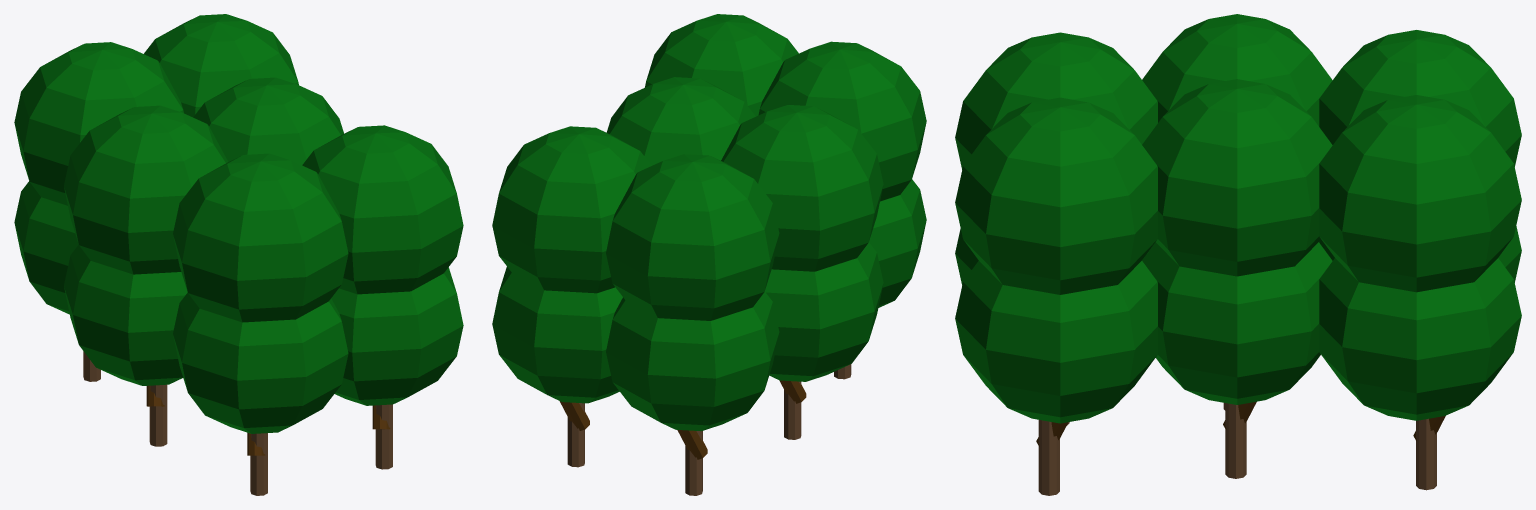
Rendered from bush_low_poly.fbx.
The picture shows the model from 3 angles, left to right: view 1: azimuth 30°, elevation 25°; view 2: azimuth 150°, elevation 25°; view 3: azimuth 270°, elevation 25°; orthographic projection. The views are drawn at different scales.
Visible parts, largest first — view 1: Sphere.010, Sphere.011, Sphere.008, Sphere.004, Sphere.006, Sphere.005, Sphere.002, Sphere.007, Sphere.009, Sphere.023, Cylinder.008, Cylinder (+1 smaller); view 2: Sphere.006, Sphere.007, Sphere.008, Sphere.023, Sphere.010, Sphere.001, Sphere.002, Sphere.009, Sphere.011, Sphere.004, Cylinder.006, Cylinder.004 (+3 smaller); view 3: Sphere.011, Sphere.007, Sphere.009, Sphere.005, Sphere.001, Sphere.003, Sphere.006, Sphere.010, Sphere.008, Cylinder, Cylinder.002, Cylinder.004 (+2 smaller).
Boxes of the visible parts, left/top/right/bottom form: Sphere.010: left=173, top=153, right=348, bottom=322; Sphere.011: left=302, top=125, right=463, bottom=294; Sphere.008: left=64, top=105, right=227, bottom=274; Sphere.004: left=173, top=292, right=348, bottom=433; Sphere.006: left=14, top=42, right=183, bottom=205; Sphere.005: left=331, top=267, right=463, bottom=405; Sphere.002: left=64, top=245, right=187, bottom=385; Sphere.007: left=144, top=14, right=298, bottom=117; Sphere.009: left=193, top=77, right=343, bottom=165; Sphere.023: left=14, top=181, right=78, bottom=314; Cylinder.008: left=149, top=384, right=167, bottom=446; Cylinder: left=375, top=404, right=392, bottom=469; Sphere.006: left=606, top=154, right=779, bottom=320; Sphere.007: left=492, top=126, right=651, bottom=293; Sphere.008: left=721, top=105, right=883, bottom=271; Sphere.023: left=606, top=291, right=779, bottom=431; Sphere.010: left=758, top=41, right=926, bottom=201; Sphere.001: left=492, top=267, right=622, bottom=403; Sphere.002: left=765, top=242, right=883, bottom=381; Sphere.009: left=606, top=77, right=755, bottom=165; Sphere.011: left=645, top=14, right=798, bottom=116; Sphere.004: left=869, top=179, right=926, bottom=307; Cylinder.006: left=685, top=431, right=702, bottom=495; Cylinder.004: left=567, top=403, right=584, bottom=467; Sphere.011: left=955, top=97, right=1157, bottom=294; Sphere.007: left=1319, top=95, right=1521, bottom=292; Sphere.009: left=1142, top=79, right=1332, bottom=276; Sphere.005: left=955, top=261, right=1157, bottom=423; Sphere.001: left=1319, top=258, right=1521, bottom=420; Sphere.003: left=1142, top=242, right=1332, bottom=404; Sphere.006: left=1319, top=30, right=1521, bottom=166; Sphere.010: left=955, top=32, right=1157, bottom=169; Sphere.008: left=1142, top=14, right=1332, bottom=126; Cylinder: left=1038, top=420, right=1059, bottom=495; Cylinder.002: left=1225, top=403, right=1246, bottom=478; Cylinder.004: left=1416, top=418, right=1436, bottom=490.
Size of the model in its own units: 388 by 400 by 538.
